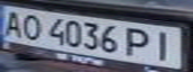0: (63, 18, 81, 48)
3: (81, 20, 103, 52)
4: (42, 16, 66, 46)
6: (100, 22, 124, 55)
A: (0, 7, 27, 38)
I: (148, 28, 184, 62)
O: (18, 11, 45, 42)
P: (124, 25, 157, 58)
